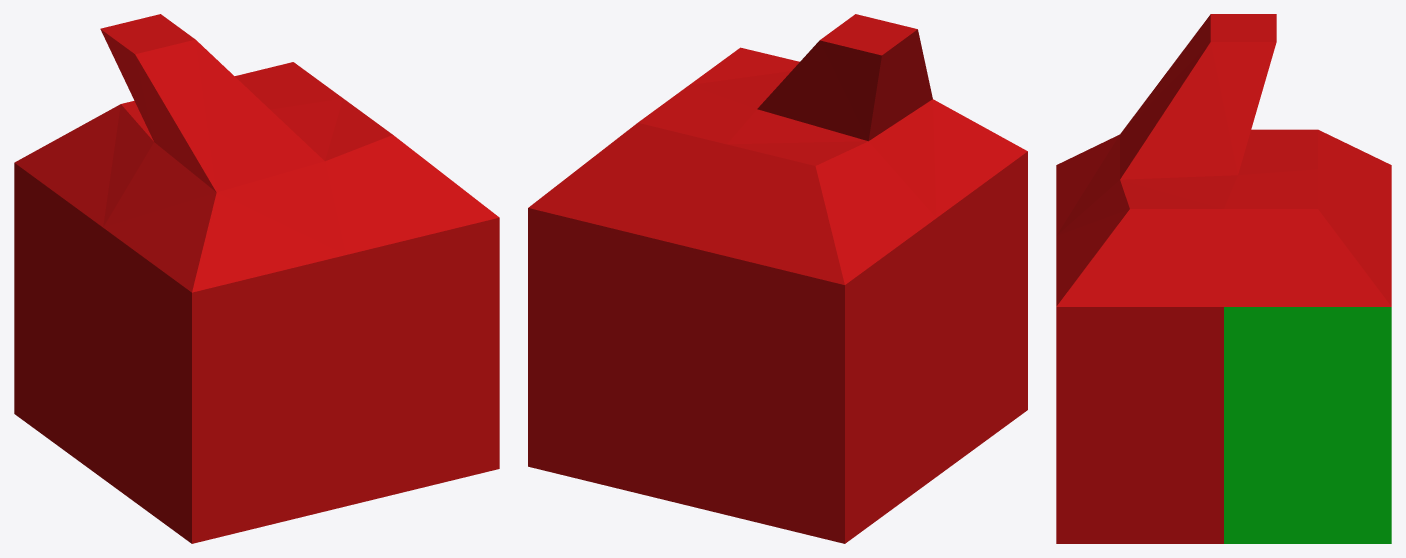
Rendered from custom.obj.
The picture shows the model from 3 angles, left to right: view 1: azimuth 30°, elevation 25°; view 2: azimuth 150°, elevation 25°; view 3: azimuth 270°, elevation 25°; orthographic projection. The views are drawn at different scales.
Parts seen in each view (by area): view 1: Cube.002; view 2: Cube.002; view 3: Cube.002.
Boxes of the visible parts, x1,y1,x2,y2 form: Cube.002: (14,14,499,543); Cube.002: (528,14,1027,543); Cube.002: (1056,14,1391,543).
Size of the model in its own units: 2 by 2.63 by 2.
